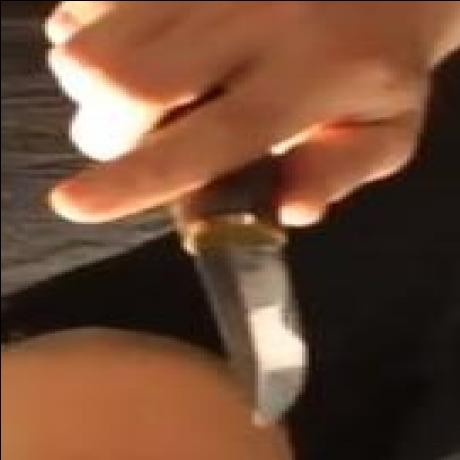1: (33, 0, 456, 242)
weapon: (182, 181, 310, 425)
